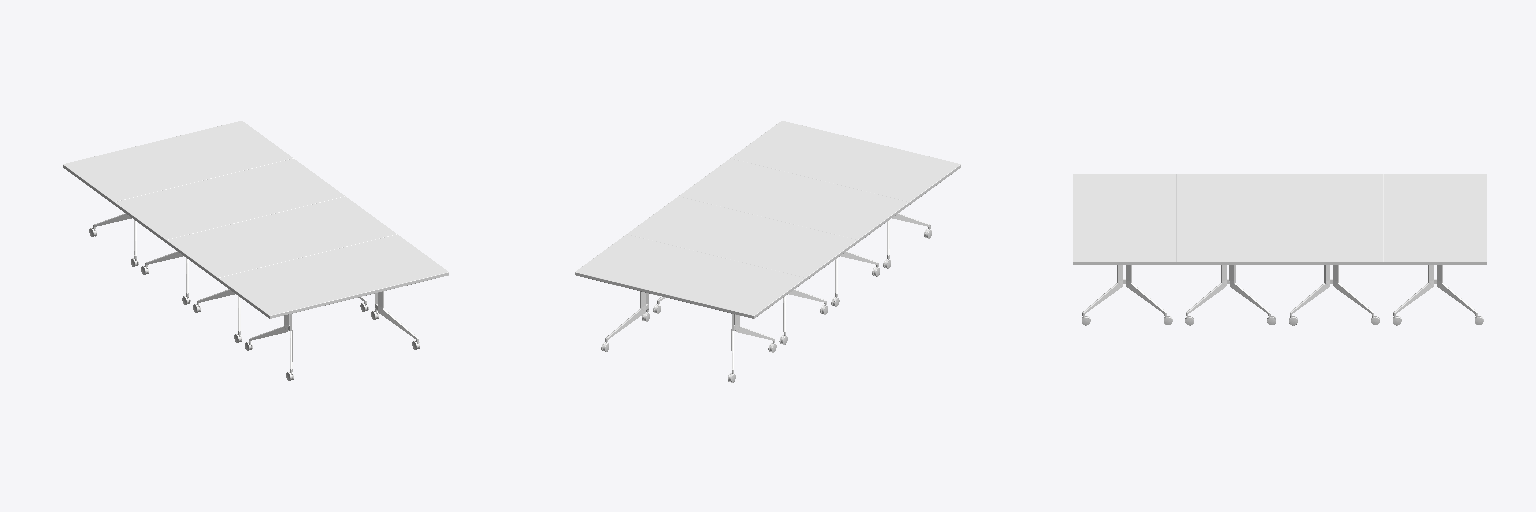
Rendered from conference.obj.
3 renders of one model, left to right at view 1: azimuth 30°, elevation 25°; view 2: azimuth 150°, elevation 25°; view 3: azimuth 270°, elevation 25°, orthographic.
Parts seen in each view (by area): view 1: _72HOEM_PL_D3_TARW_3672_WKN_TOP_ID332, _72HOEM_PL_D3_TARW_3672_WKN_EDGE_ID324, _72HOEM_PL_D3_TAFG_3672_C_BASE_ID83; view 2: _72HOEM_PL_D3_TARW_3672_WKN_TOP_ID332, _72HOEM_PL_D3_TARW_3672_WKN_EDGE_ID324, _72HOEM_PL_D3_TAFG_3672_C_BASE_ID83; view 3: _72HOEM_PL_D3_TARW_3672_WKN_TOP_ID332, _72HOEM_PL_D3_TAFG_3672_C_BASE_ID41, _72HOEM_PL_D3_TARW_3672_WKN_EDGE_ID324.
Part boxes in pixels (x1,y1,x2,y2): _72HOEM_PL_D3_TARW_3672_WKN_TOP_ID332: (63,121,447,315); _72HOEM_PL_D3_TARW_3672_WKN_EDGE_ID324: (63,124,448,318); _72HOEM_PL_D3_TAFG_3672_C_BASE_ID83: (93,213,292,372); _72HOEM_PL_D3_TARW_3672_WKN_TOP_ID332: (576,121,960,315); _72HOEM_PL_D3_TARW_3672_WKN_EDGE_ID324: (575,124,960,318); _72HOEM_PL_D3_TAFG_3672_C_BASE_ID83: (731,213,930,372); _72HOEM_PL_D3_TARW_3672_WKN_TOP_ID332: (1073,174,1486,261); _72HOEM_PL_D3_TAFG_3672_C_BASE_ID41: (1082,265,1477,315); _72HOEM_PL_D3_TARW_3672_WKN_EDGE_ID324: (1073,174,1486,264).
Size of the model in its own units: 1.55 by 0.6261 by 3.11.